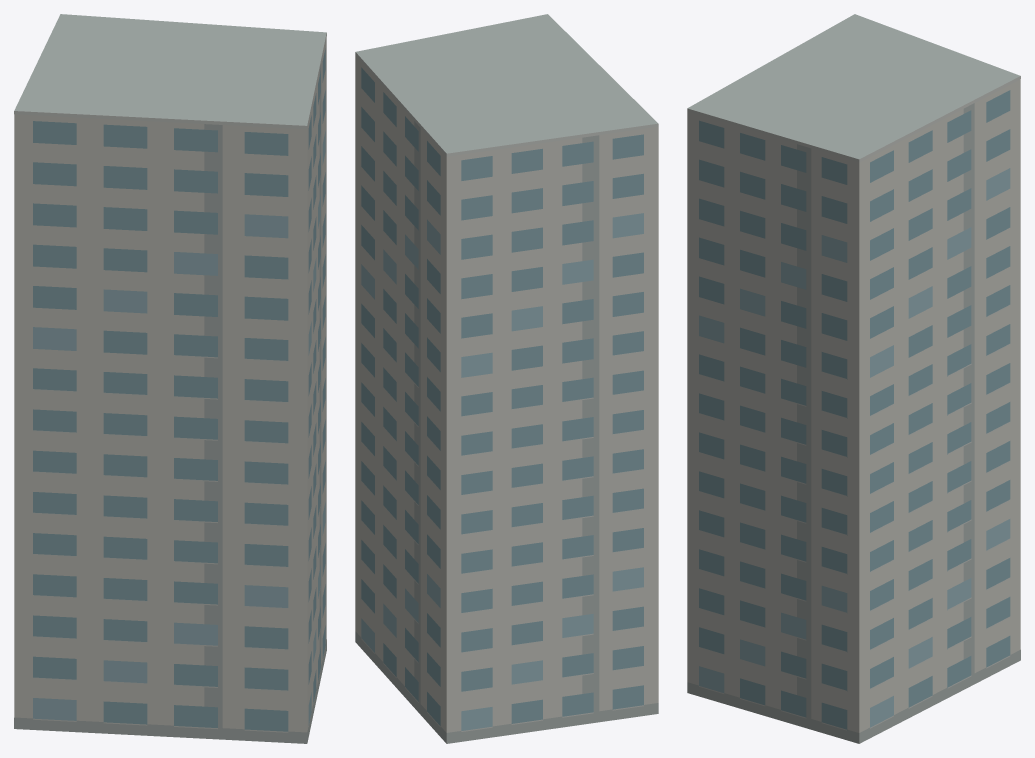
File: residential-e866b1ed-ac76-4862-860e-06a89b266001.glb
3 views of the same model, side by side, from view 1: azimuth 30°, elevation 25°; view 2: azimuth 150°, elevation 25°; view 3: azimuth 270°, elevation 25° (orthographic). The views are drawn at different scales.
Visible parts, largest first — view 1: residential-e866b1ed-ac76-4862-860e-06a89b266001.tmp; view 2: residential-e866b1ed-ac76-4862-860e-06a89b266001.tmp; view 3: residential-e866b1ed-ac76-4862-860e-06a89b266001.tmp.
Part boxes in pixels (x1,y1,x2,y2): residential-e866b1ed-ac76-4862-860e-06a89b266001.tmp: (14,14,326,743); residential-e866b1ed-ac76-4862-860e-06a89b266001.tmp: (355,14,658,743); residential-e866b1ed-ac76-4862-860e-06a89b266001.tmp: (687,14,1020,743).
Bounding box in the file's own units: 23.48 × 44 × 22.76.
